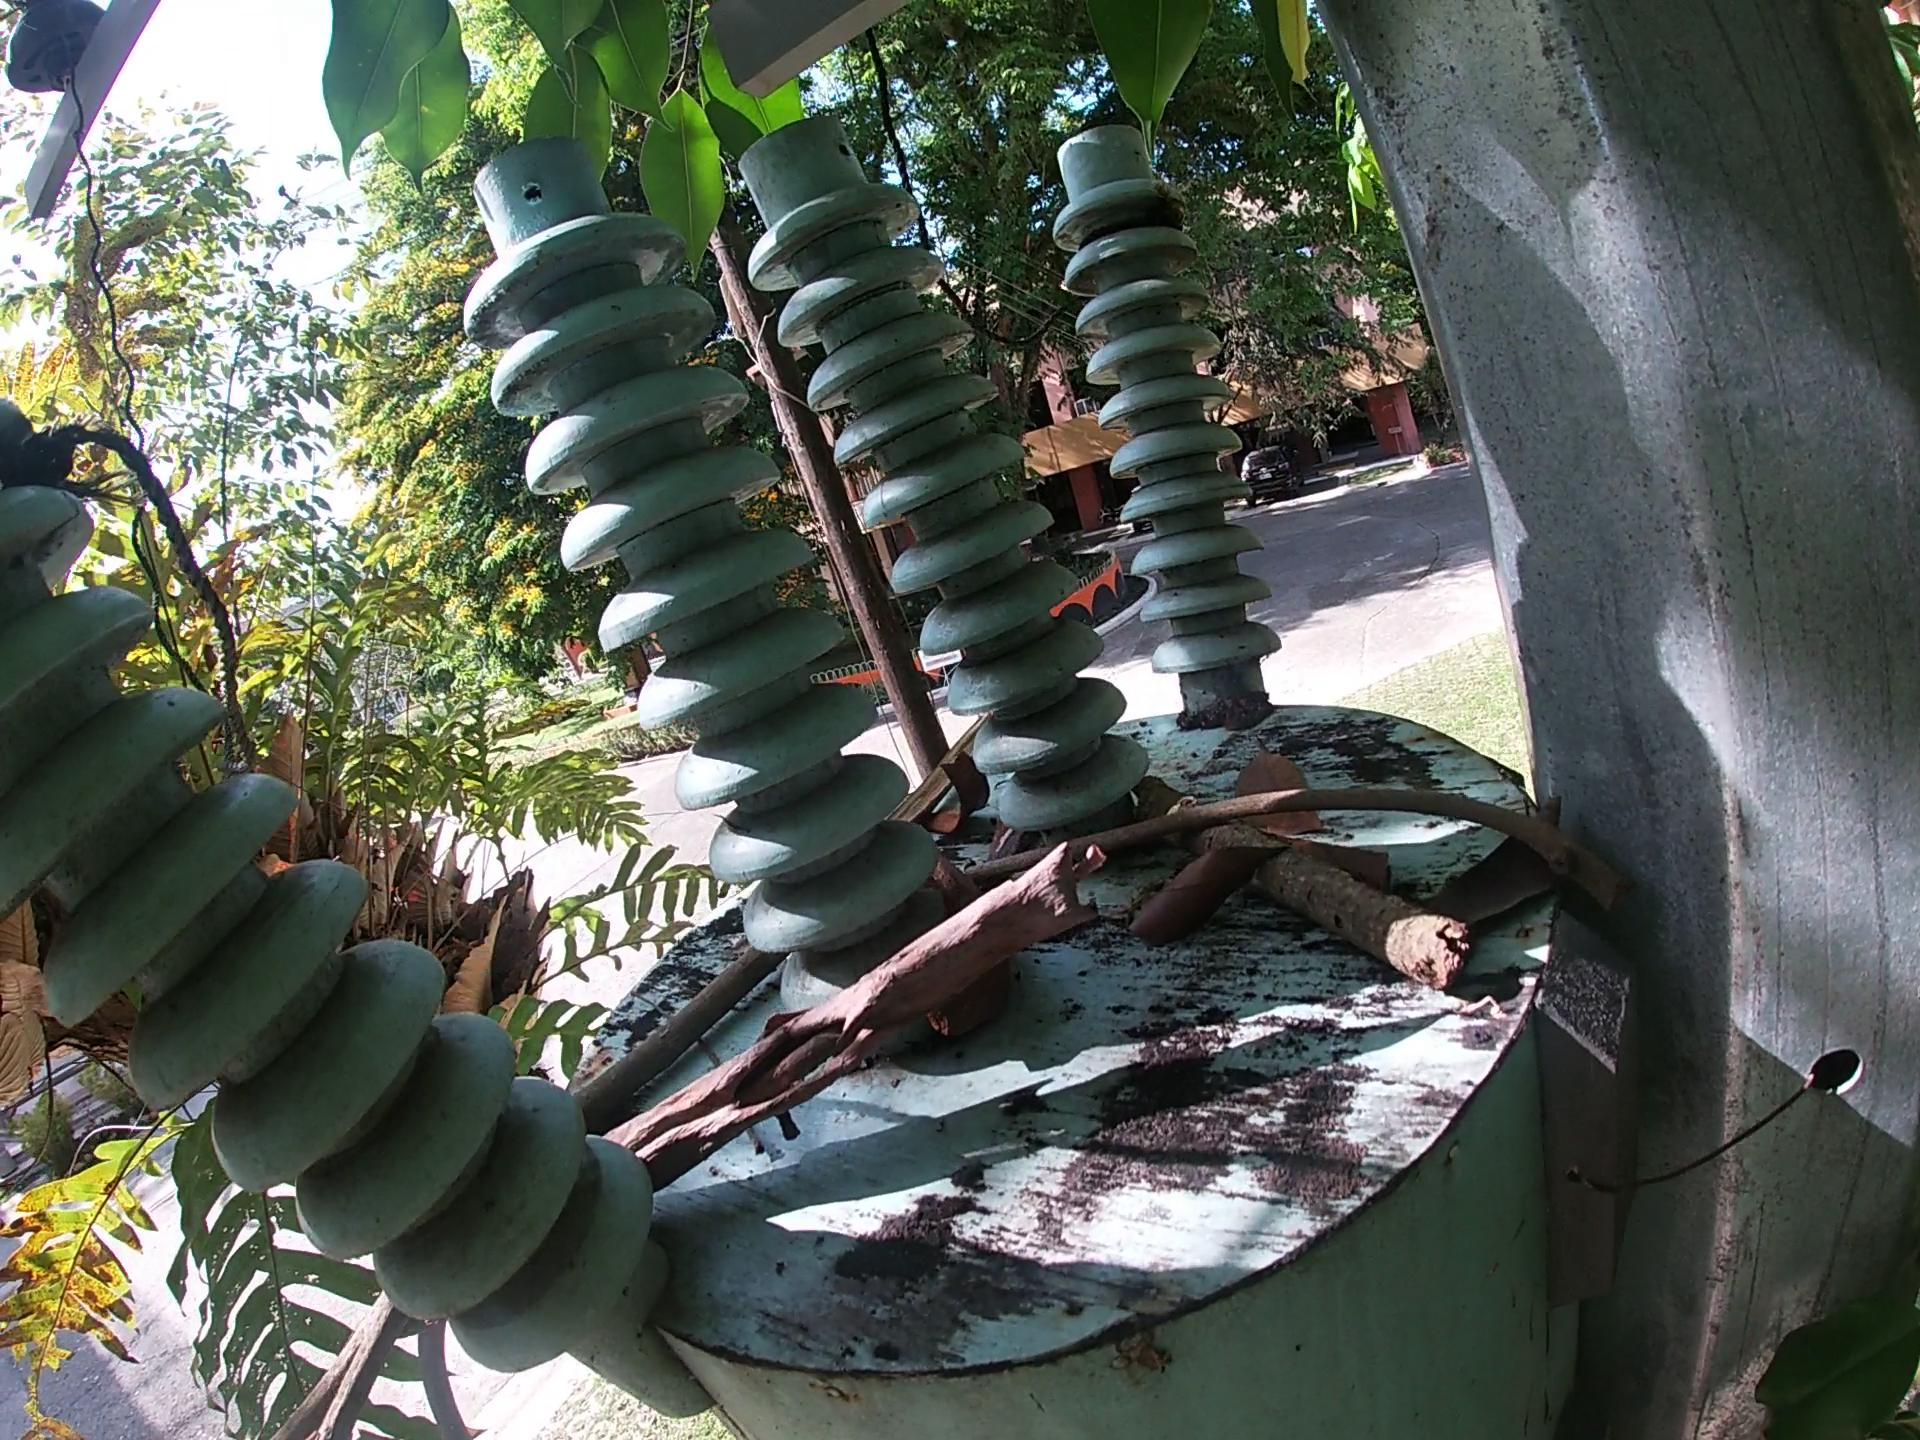leaf: (1421, 793, 1572, 932), (1120, 833, 1285, 945), (1226, 735, 1329, 835), (1291, 835, 1407, 895)
mahogany fruit: (912, 852, 1014, 1054), (919, 747, 993, 835)
tree branch: (605, 833, 1113, 1199), (968, 779, 1634, 924), (1134, 771, 1476, 1001), (578, 939, 788, 1128), (278, 1275, 404, 1440)
